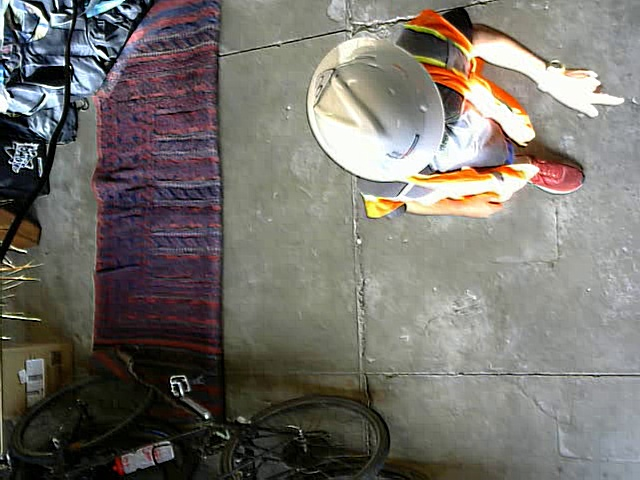three: (310, 68, 333, 109)
